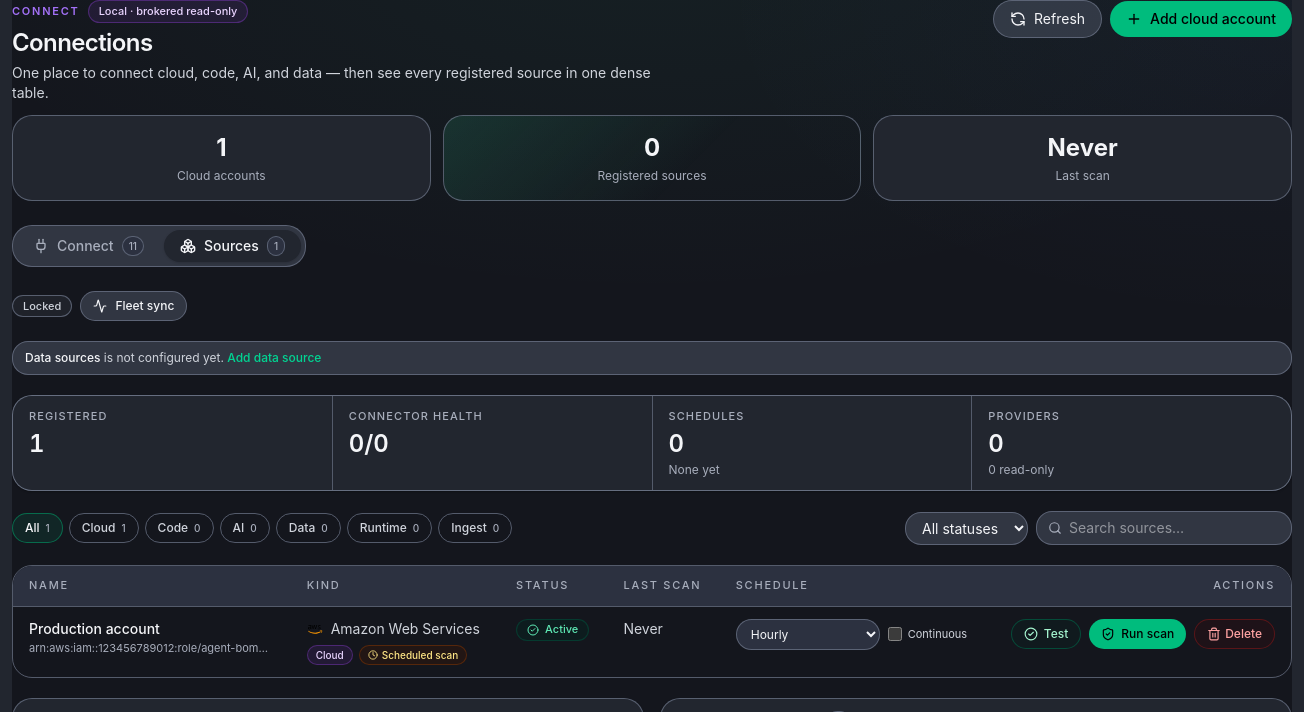
Scenario: ConnectionsPage — Sources segment (unified table) › patches scan_mode from the schedule Continuous checkbox
Expected: the text "Production account" is shown, x1=29 y1=619 x2=160 y2=639
Click the checkbox with test id "schedule-scan-mode-continuous" at (895, 634), box x1=888 y1=628 x2=902 y2=642
(page scrolled)
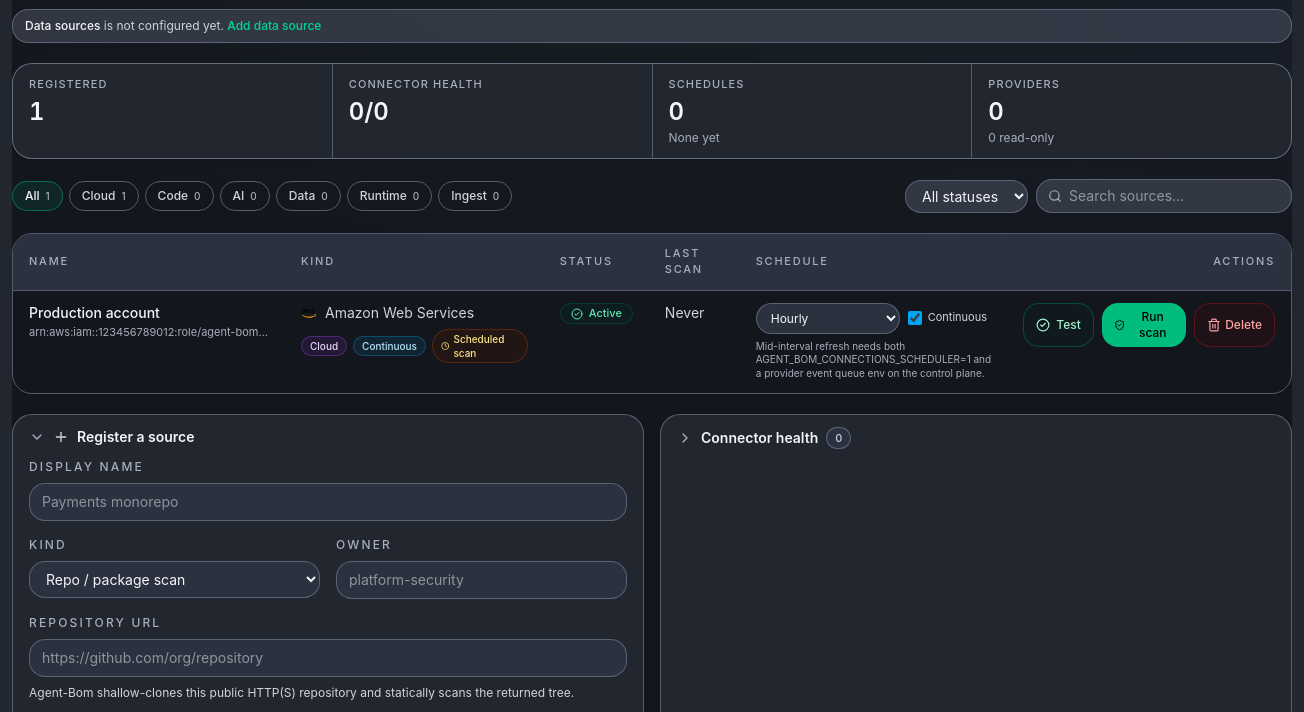
Expected: the text with test id "schedule-continuous-queue-hint" shows "event queue", x1=756 y1=340 x2=991 y2=379
Expected: the text with test id "schedule-continuous-queue-hint" shows "AGENT_BOM_CONNECTIONS_SCHEDULER", x1=756 y1=340 x2=991 y2=379
